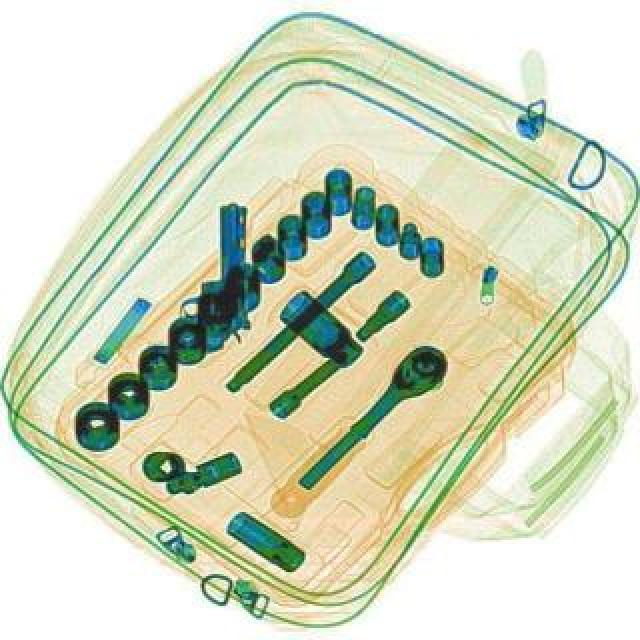gun: (176, 202, 256, 352)
